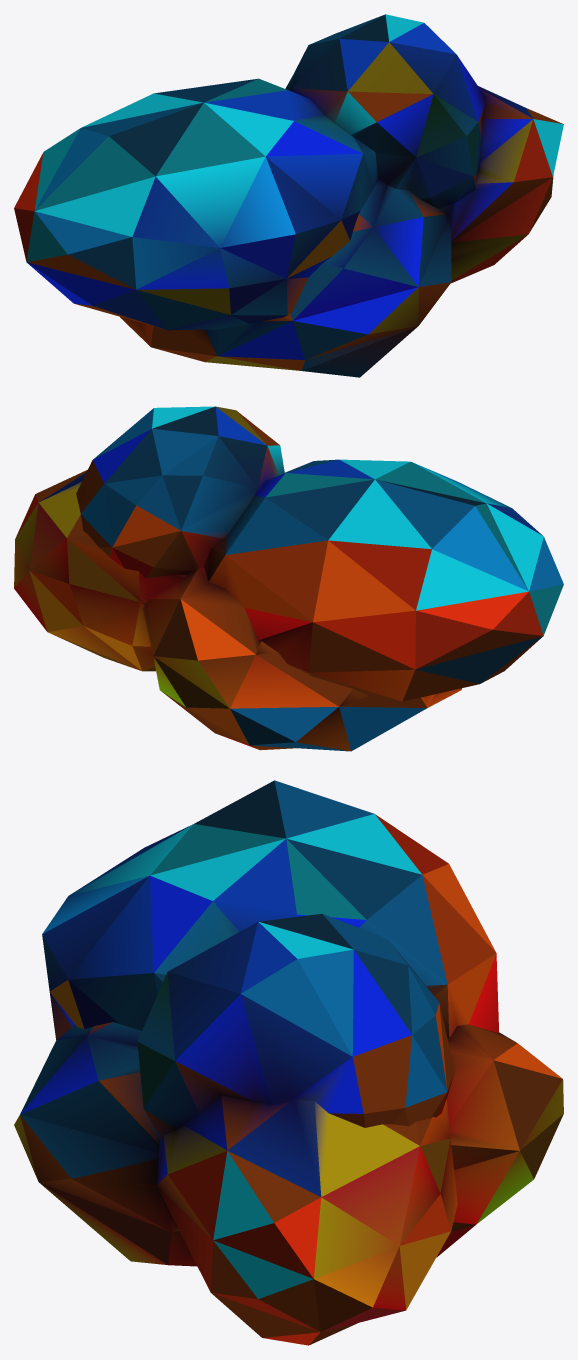
The model's file is LowPolyComplex.fbx.
3 views of the same model, one above another, from view 1: azimuth 30°, elevation 25°; view 2: azimuth 150°, elevation 25°; view 3: azimuth 270°, elevation 25° (orthographic). The views are drawn at different scales.
Visible parts, largest first — view 1: LowPolyComplex; view 2: LowPolyComplex; view 3: LowPolyComplex.
Boxes of the visible parts, x1,y1,x2,y2 form: LowPolyComplex: (14, 14, 563, 377); LowPolyComplex: (14, 406, 563, 751); LowPolyComplex: (14, 780, 563, 1345).
Bounding box in the file's own units: 0.0224 × 0.0117 × 0.0144.
